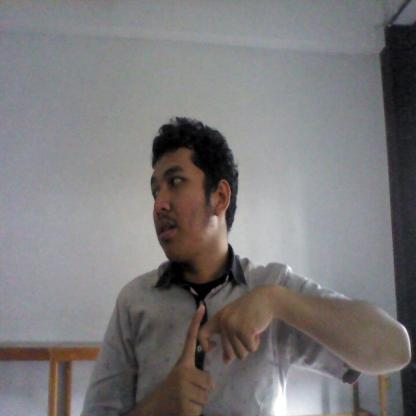K: (166, 274, 275, 416)
